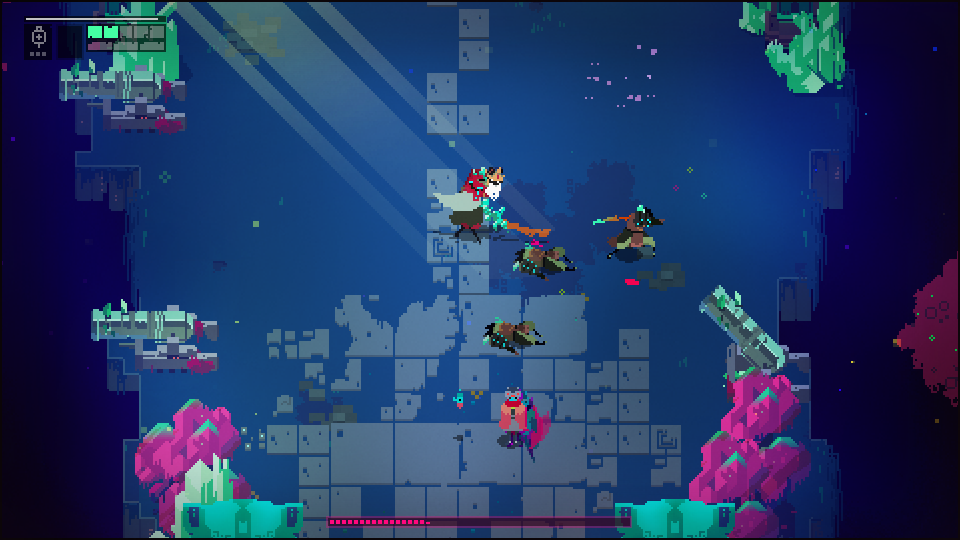hanged_man: (431, 160, 520, 241)
player: (495, 387, 528, 448)
